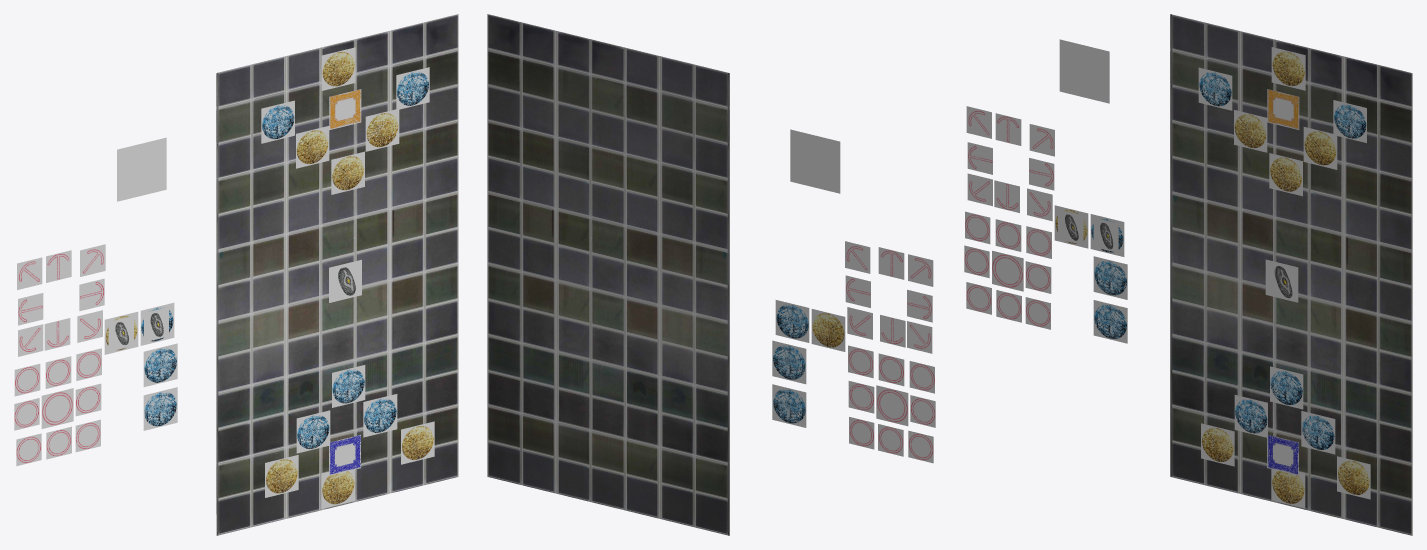
Rendered from Board7Scene.dae.
3 renders of one model, left to right at view 1: azimuth 30°, elevation 25°; view 2: azimuth 150°, elevation 25°; view 3: azimuth 330°, elevation 25°, orthographic.
Parts seen in each view (by area): view 1: Board03, Transparent, BlueBeanObject (×2), Blue07, Blue06, Blue03, Red07, Blue02, Red03, Red05, Blue05, Blue04 (+26 smaller); view 2: Board03, Transparent, Blue07, Blue06, RedBeanObject, BlueBeanObject, YellowFlare, PossibleN, PossibleE, PossibleW_1, PossibleNW, PossibleSE (+11 smaller); view 3: Board03, Transparent, BlueBeanObject (×2), RedBeanObject (×2), Red07, Blue06, Blue07, Blue03, Blue05, Red03, NewBean, Red05 (+26 smaller).
Part boxes in pixels (x1,y1,x2,y2): Board03: (216, 14, 458, 535); Transparent: (117, 137, 166, 201); BlueBeanObject (×2): (140, 302, 174, 345); Blue07: (143, 387, 177, 430); Blue06: (143, 343, 177, 386); Blue03: (363, 394, 397, 437); Red07: (321, 47, 355, 90); Blue02: (296, 410, 330, 453); Red03: (365, 109, 399, 151); Red05: (401, 421, 434, 464); Blue05: (261, 100, 294, 143); Blue04: (396, 67, 429, 110); Board03: (487, 14, 729, 535); Transparent: (790, 129, 840, 193); Blue07: (772, 384, 806, 427); Blue06: (772, 340, 806, 384); RedBeanObject: (811, 309, 845, 351); BlueBeanObject: (775, 300, 809, 342); YellowFlare: (876, 385, 908, 426); PossibleN: (878, 353, 904, 386); PossibleE: (848, 381, 874, 413); PossibleW_1: (878, 247, 904, 279); PossibleNW: (848, 345, 873, 378); PossibleSE: (908, 430, 933, 463); Board03: (1170, 14, 1412, 535); Transparent: (1059, 39, 1109, 103); BlueBeanObject (×2): (1090, 214, 1124, 256); RedBeanObject (×2): (1054, 205, 1088, 248); Red07: (1271, 47, 1305, 90); Blue06: (1093, 256, 1127, 299); Blue07: (1093, 300, 1127, 343); Blue03: (1301, 411, 1335, 454); Blue05: (1198, 67, 1232, 110); Red03: (1303, 127, 1337, 169); NewBean: (1265, 259, 1298, 302); Red05: (1337, 456, 1370, 499).
Size of the model in its own units: 66.49 by 2.32 by 65.85.
Materials: 11 (11 with a texture image).
